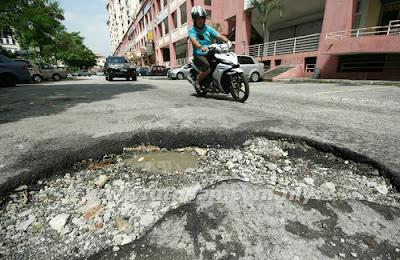Pothole: (0, 110, 400, 260)
